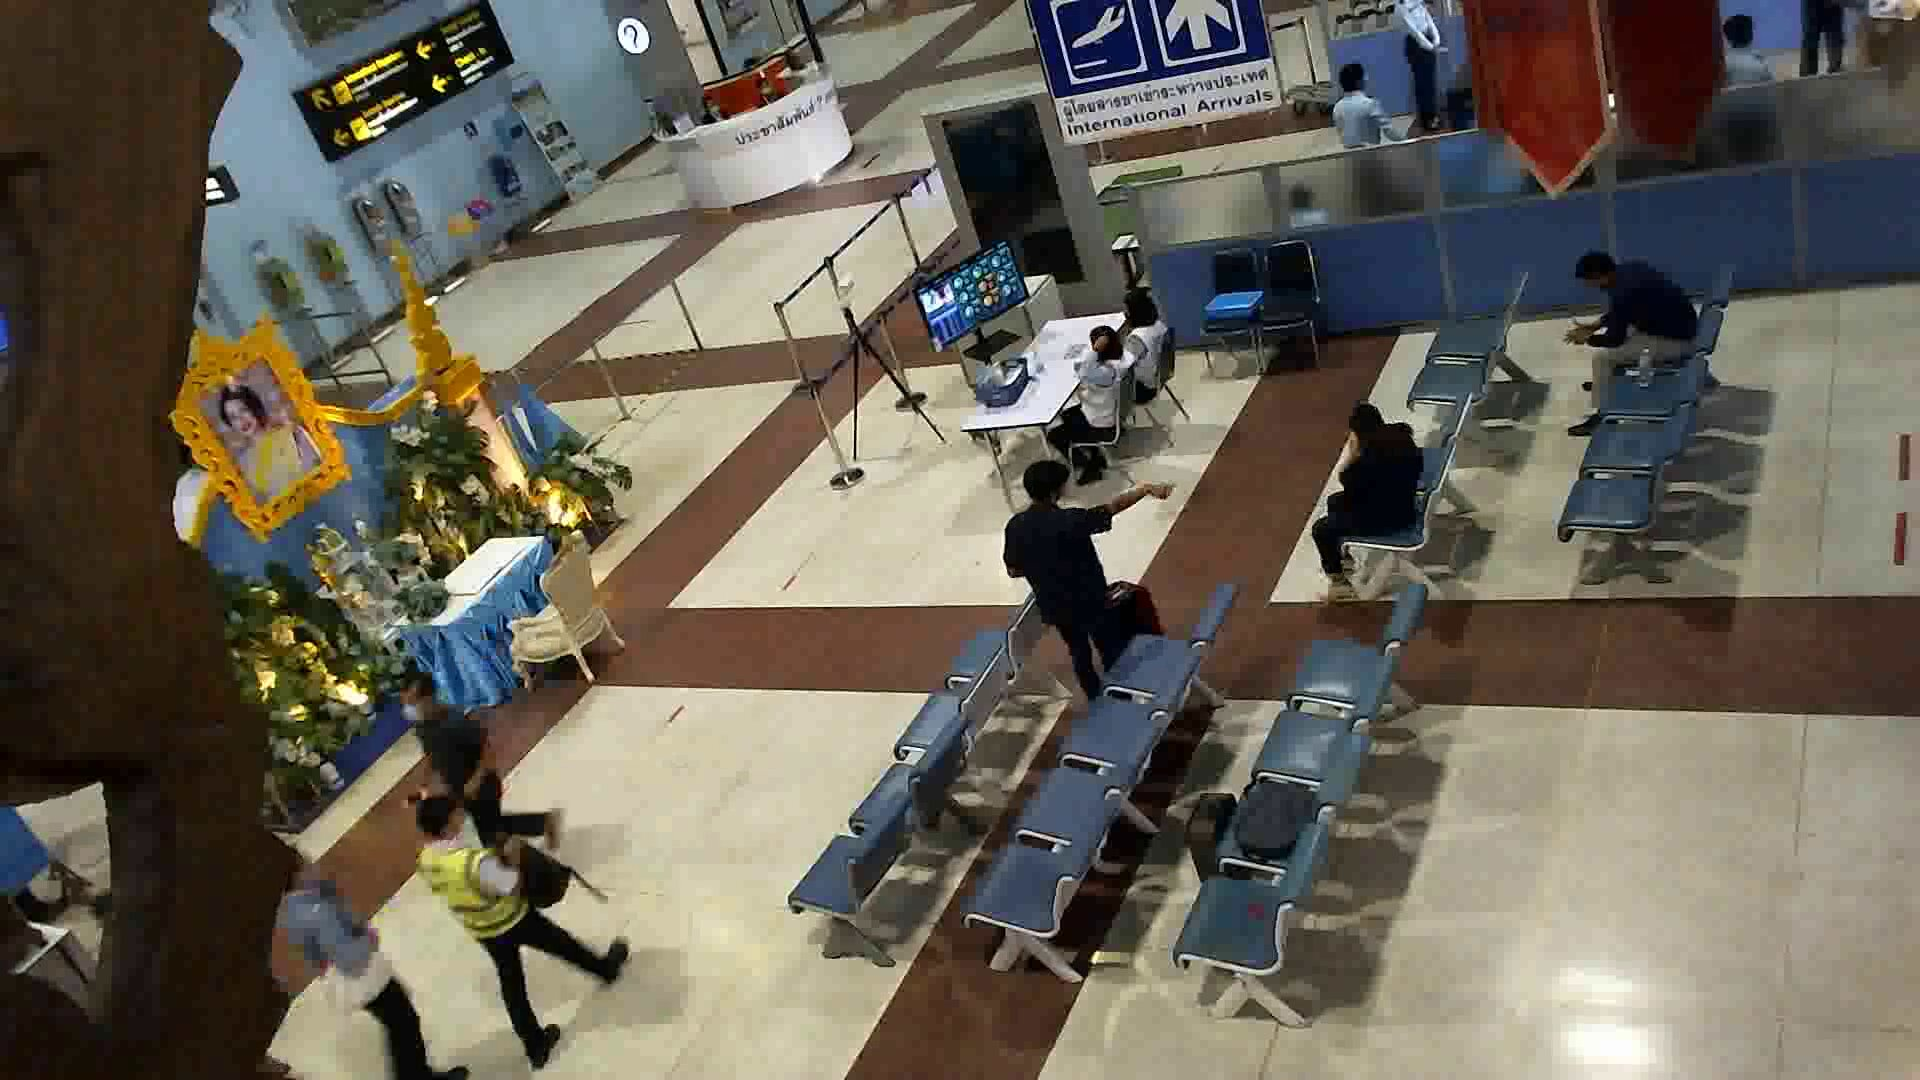backpack: (1241, 766, 1316, 861)
luggage: (1187, 786, 1249, 907), (1101, 574, 1164, 661)
people: (412, 790, 637, 1074), (274, 845, 464, 1080), (1006, 447, 1154, 715), (387, 670, 572, 865), (1303, 397, 1431, 613), (1566, 245, 1706, 438), (1054, 316, 1133, 484), (1114, 288, 1187, 407)
